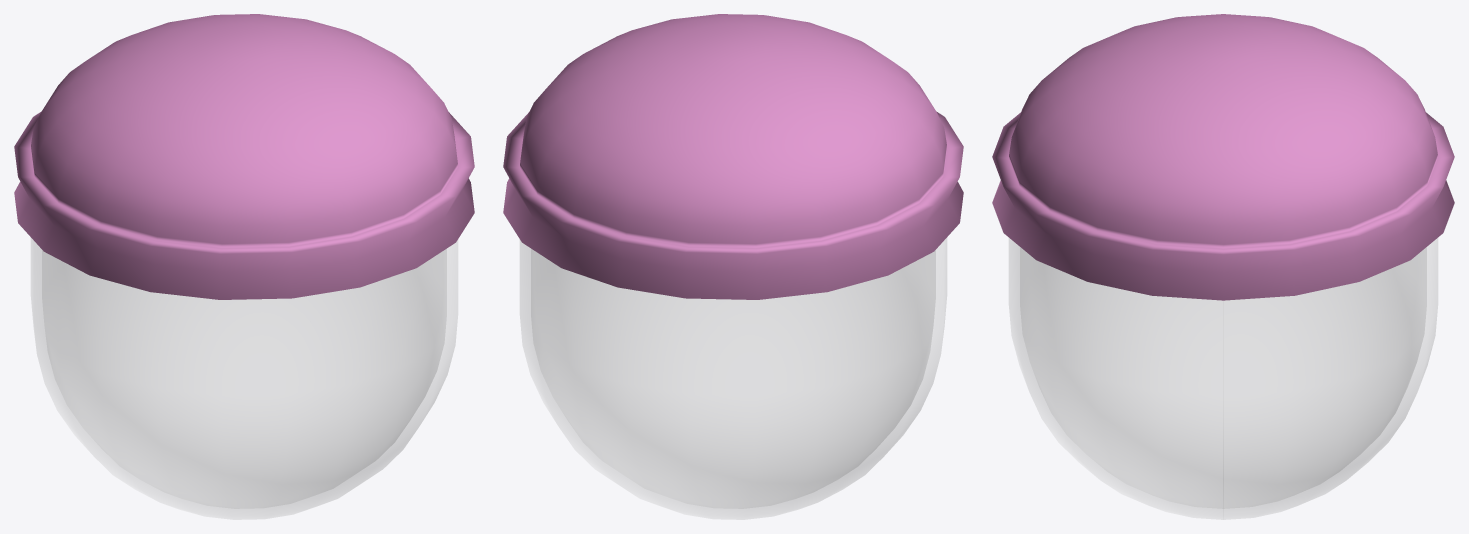
The model's file is capsule_purple.glb.
3 renders of one model, left to right at view 1: azimuth 30°, elevation 25°; view 2: azimuth 150°, elevation 25°; view 3: azimuth 270°, elevation 25°, orthographic.
Parts seen in each view (by area): view 1: CapsulePurpleTop, CapsulePurpleBottom; view 2: CapsulePurpleTop, CapsulePurpleBottom; view 3: CapsulePurpleTop, CapsulePurpleBottom.
Part boxes in pixels (left/top/right/bottom): CapsulePurpleTop: left=14, top=14, right=474, bottom=299; CapsulePurpleBottom: left=31, top=238, right=457, bottom=519; CapsulePurpleTop: left=503, top=14, right=963, bottom=299; CapsulePurpleBottom: left=520, top=238, right=946, bottom=519; CapsulePurpleTop: left=992, top=14, right=1454, bottom=300; CapsulePurpleBottom: left=1009, top=238, right=1437, bottom=519.
Bounding box in the file's own units: 0.021 × 0.0227 × 0.021.
